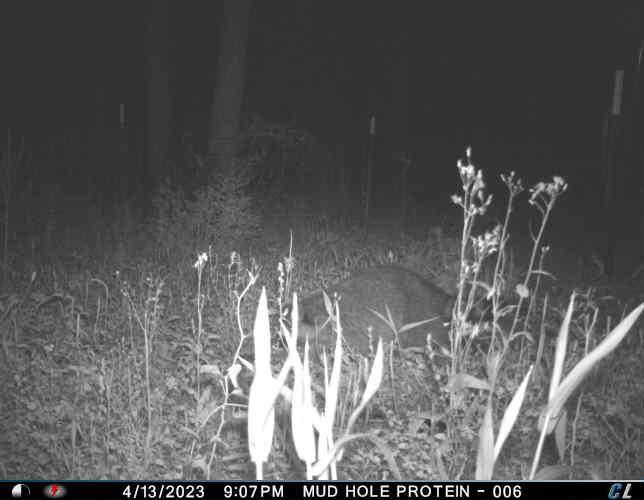Raccoon: (267, 259, 498, 368)
